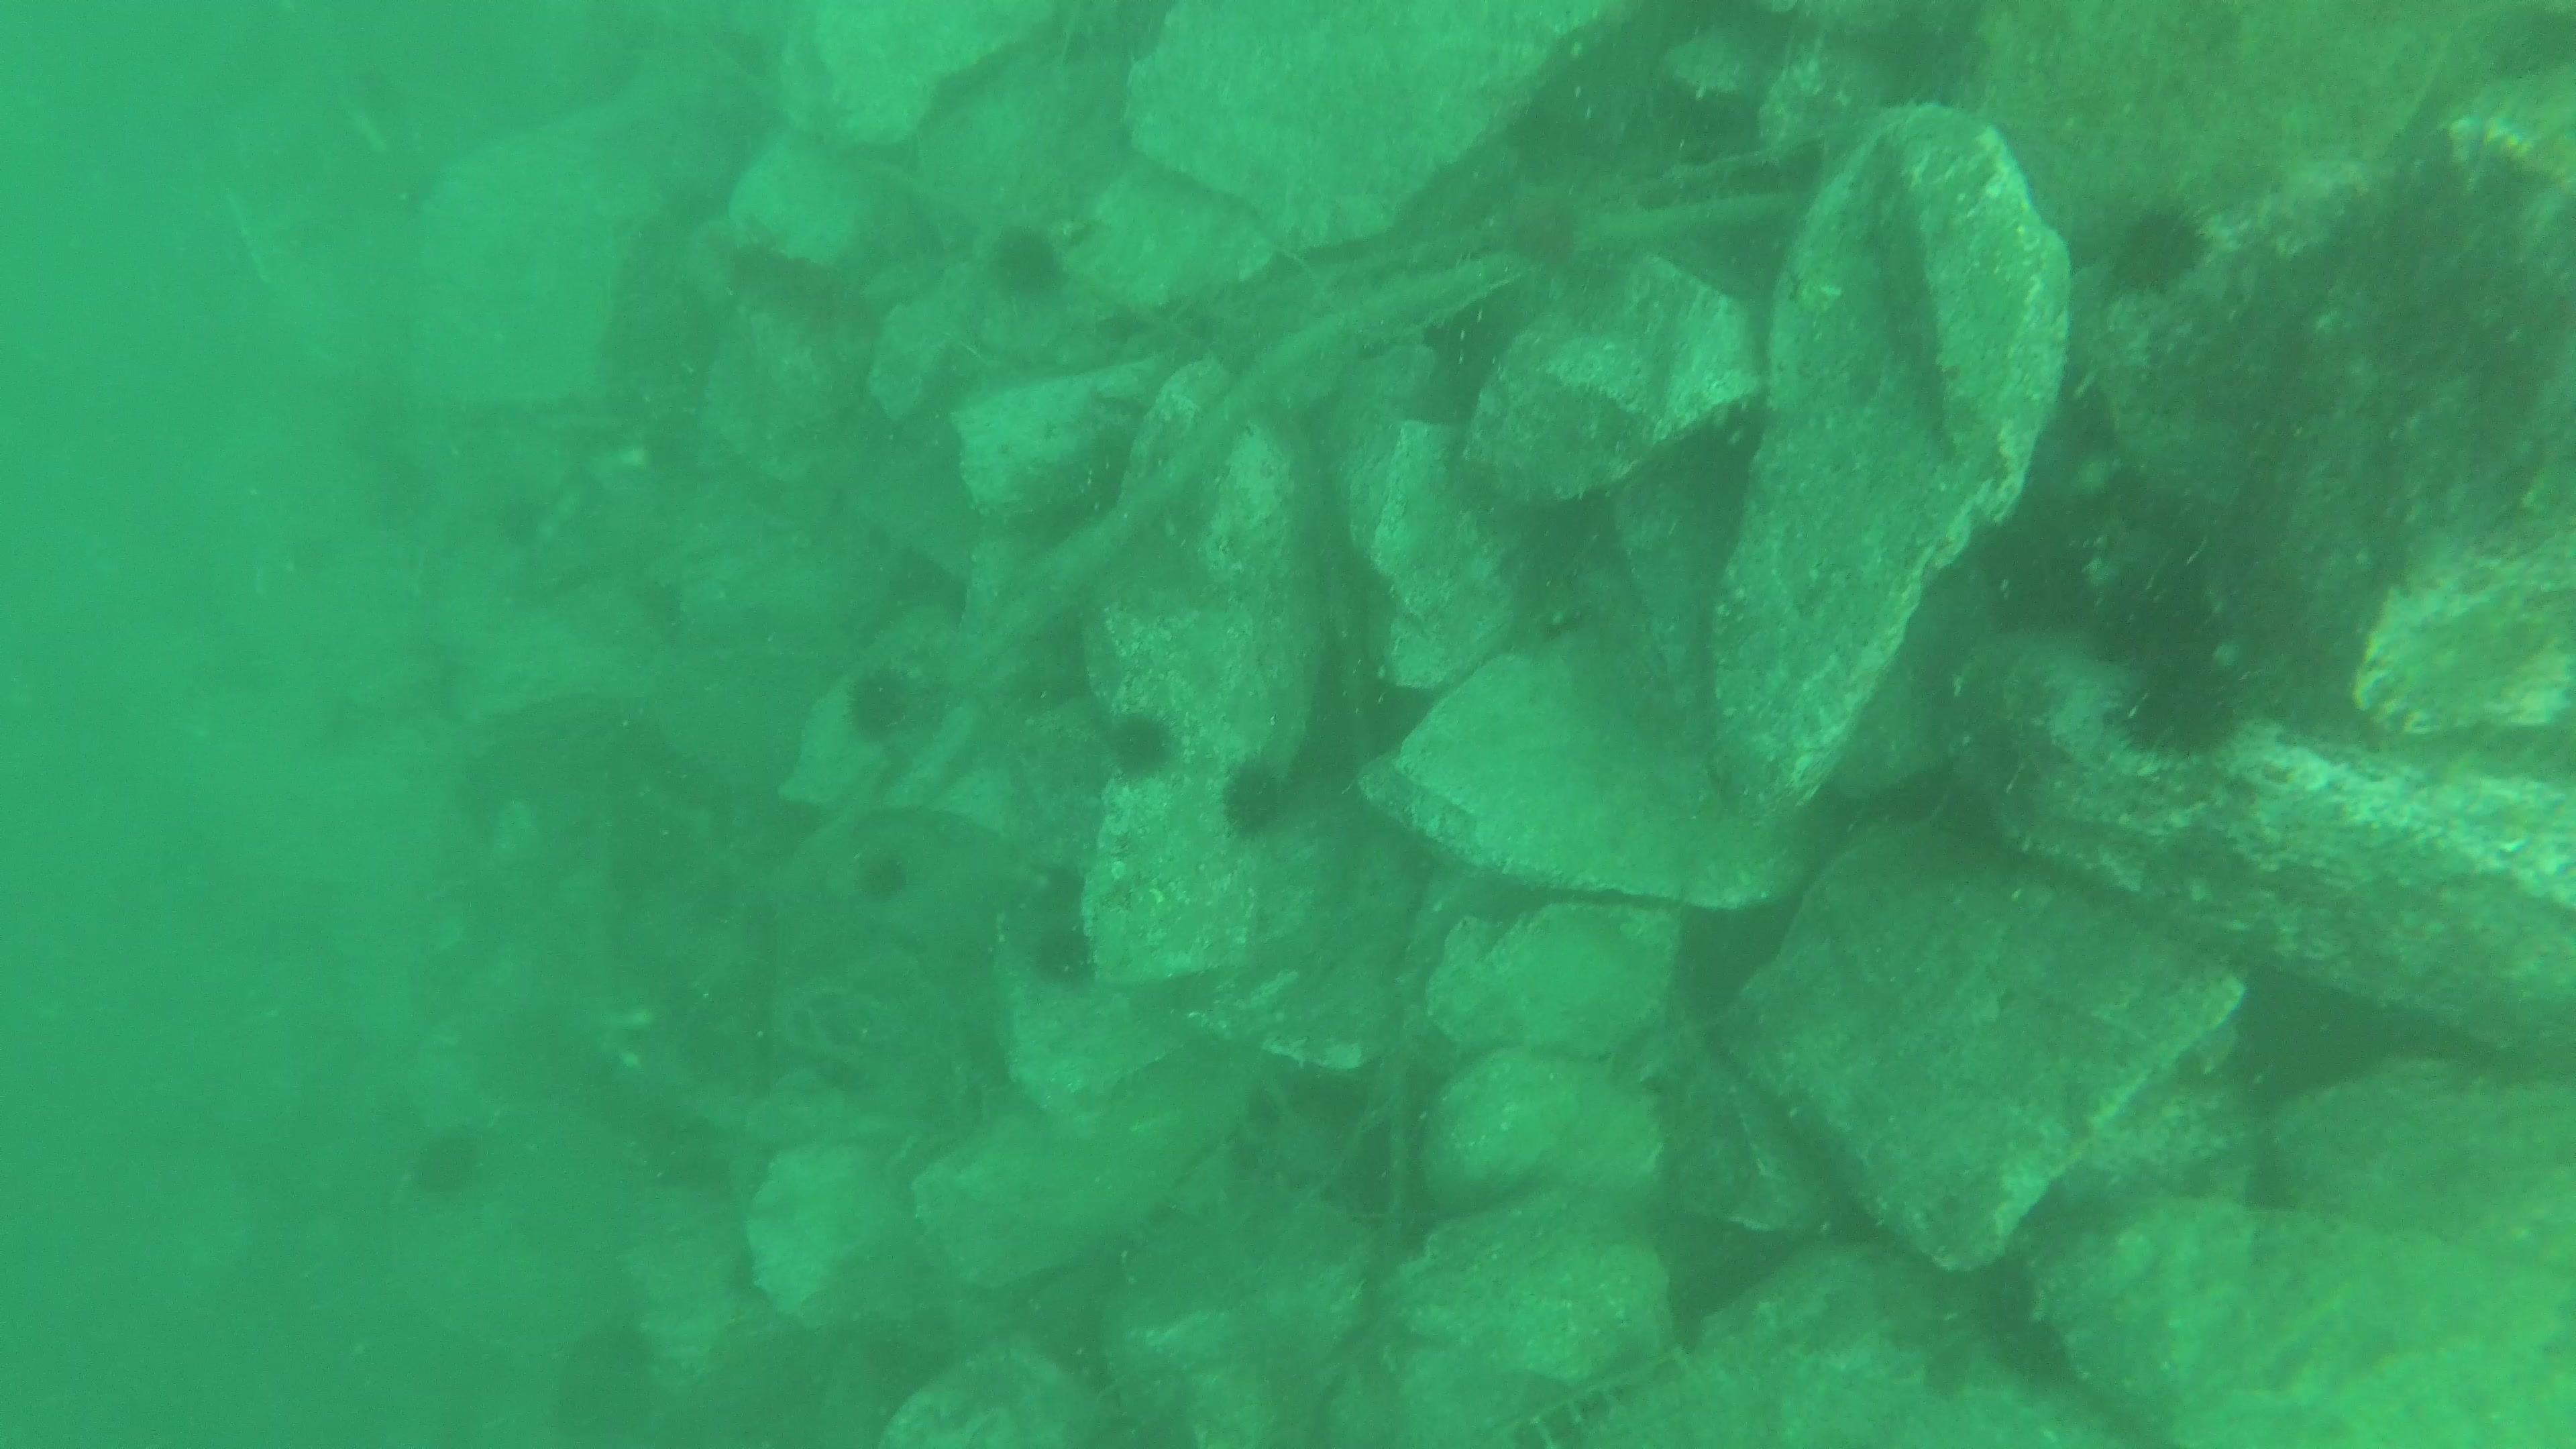echinus: (2134, 669, 2245, 759), (2116, 202, 2210, 288), (1509, 186, 1585, 269), (987, 228, 1063, 299), (412, 1127, 485, 1200), (1102, 709, 1177, 780), (847, 671, 913, 738), (1230, 763, 1290, 835), (1033, 924, 1093, 985), (860, 856, 913, 906)
